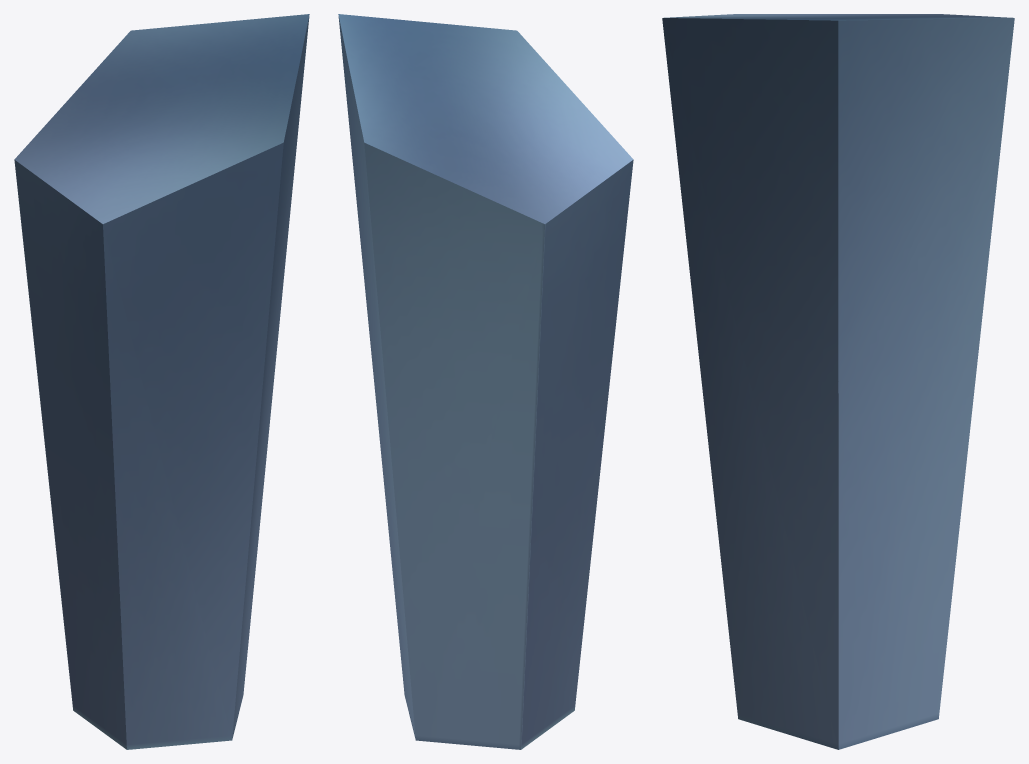
Rendered from crystal02.FBX.
The picture shows the model from 3 angles, left to right: view 1: azimuth 30°, elevation 25°; view 2: azimuth 150°, elevation 25°; view 3: azimuth 270°, elevation 25°; orthographic projection. The views are drawn at different scales.
Parts seen in each view (by area): view 1: Cylinder002; view 2: Cylinder002; view 3: Cylinder002.
Boxes of the visible parts, x1,y1,x2,y2 form: Cylinder002: (14, 14, 309, 749); Cylinder002: (338, 14, 633, 749); Cylinder002: (662, 14, 1014, 749).
Size of the model in its own units: 10.57 by 26.76 by 11.16.
